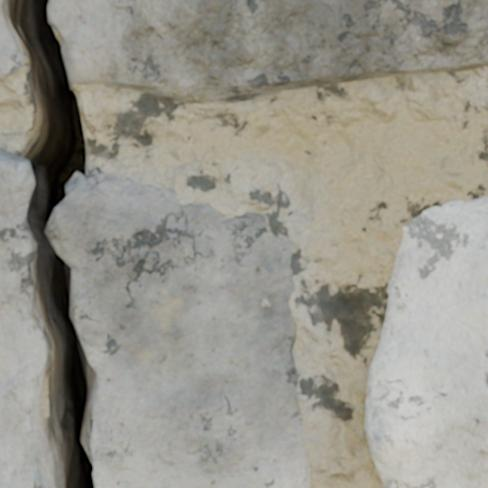brick: (365, 198, 487, 487)
broken_brick: (46, 172, 310, 487), (51, 0, 487, 104), (0, 147, 44, 487), (0, 0, 25, 78)
crack: (1, 0, 99, 487)
